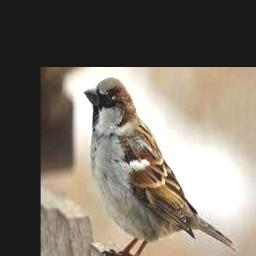Sparrow: (84, 78, 235, 256)
